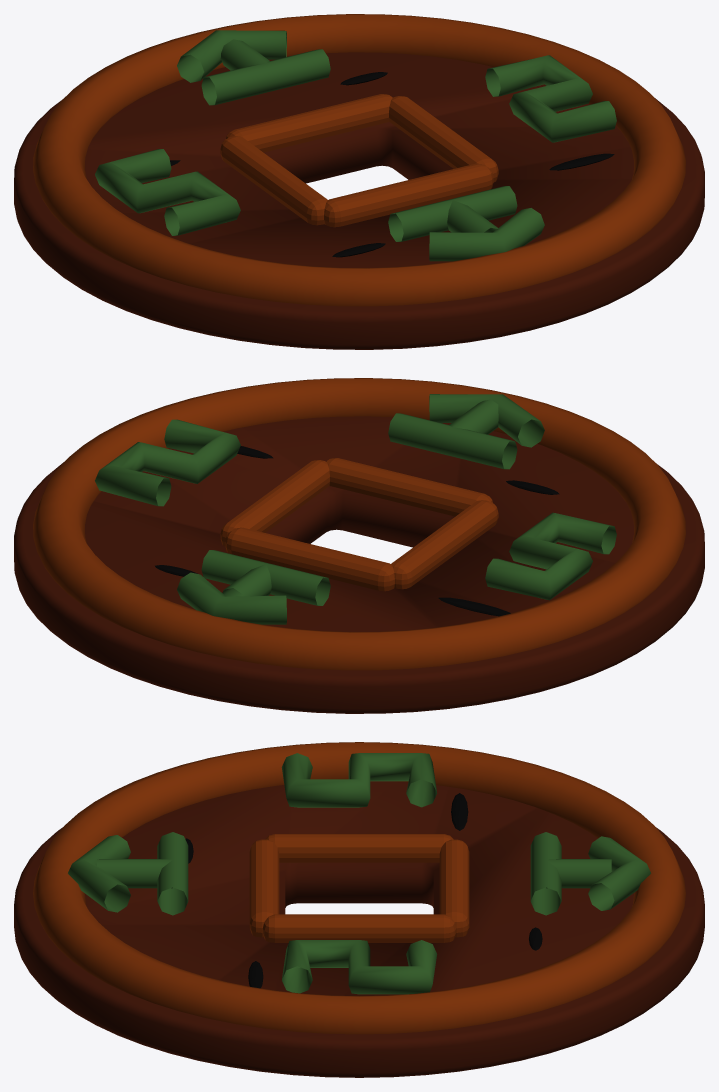
File: tongqian.fbx
3 views of the same model, one above another, from view 1: azimuth 30°, elevation 25°; view 2: azimuth 150°, elevation 25°; view 3: azimuth 270°, elevation 25° (orthographic).
Visible parts, largest first — view 1: tongqian; view 2: tongqian; view 3: tongqian.
Part boxes in pixels (bbox=[...]): tongqian: bbox=[14, 14, 704, 349]; tongqian: bbox=[14, 378, 704, 713]; tongqian: bbox=[14, 742, 704, 1077].
Size of the model in its own units: 100 by 12 by 100.
